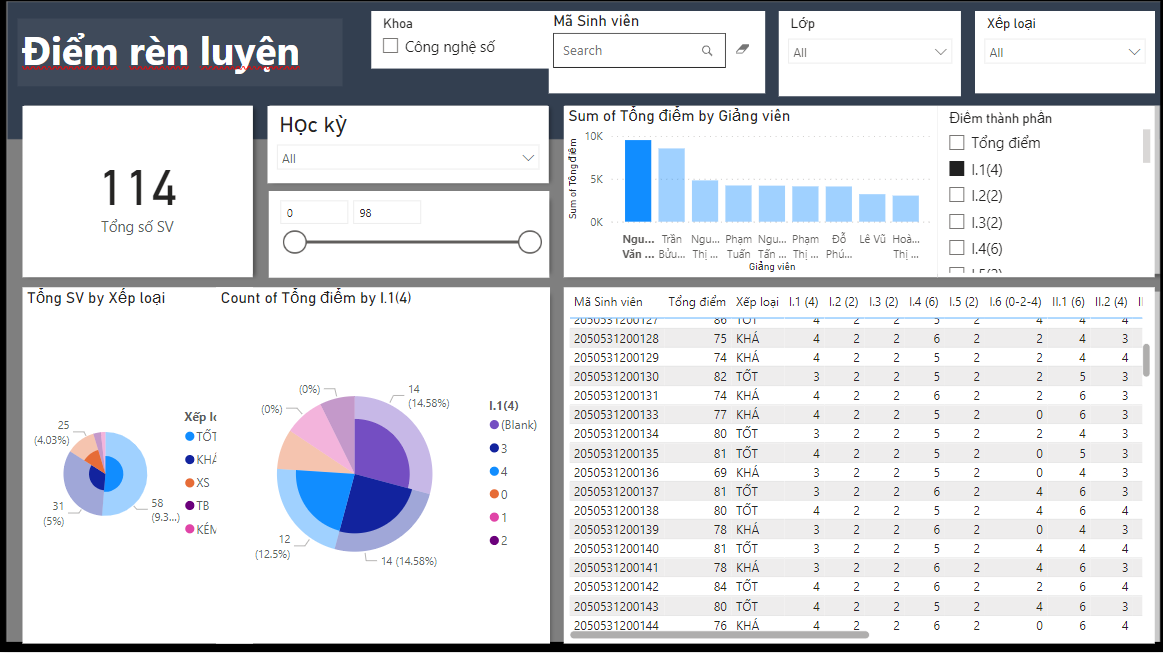

Layout of this report page (visuals, bound fields, positions):
{"tool":"powerbi","page":{"name":"Page 1","canvas":[1280,720],"ordinal":0},"visuals":[{"type":"slicer","fields":{"Values":["Điểm Rèn Luyện.Học kỳ"]},"box":[293.7,120.8,308.7,85.1],"z":0},{"type":"card","fields":{"Values":["Điểm Rèn Luyện.Xếp loại"]},"box":[24.7,120.8,252.5,188],"z":1000},{"type":"slicer","fields":{"Values":["Điểm Rèn Luyện.Tổng điểm"]},"box":[295.6,213.5,307.6,95.3],"z":2000},{"type":"clusteredColumnChart","fields":{"Category":["Giảng viên.Giảng viên"],"Y":["Điểm Rèn Luyện.Tổng điểm"]},"box":[618.9,120.8,410.3,188],"z":3000},{"type":"pieChart","fields":{"Category":["Điểm Rèn Luyện.Xếp loại"],"Y":["Điểm Rèn Luyện.Mã Sinh viên"]},"box":[24.7,319.7,252.5,391.1],"z":4000},{"type":"slicer","fields":{"Values":["Parameter.Parameter"]},"box":[1029.2,120.8,238.8,188],"z":5000},{"type":"pieChart","fields":{"Category":["Điểm Rèn Luyện.I.1 (4)"],"Y":["Điểm Rèn Luyện.Tổng điểm"]},"box":[237.4,319.7,366.4,391.1],"z":6000},{"type":"textbox","box":[19.2,24.7,356.8,74.1],"z":7000},{"type":"tableEx","fields":{"Values":["Điểm Rèn Luyện.Mã Sinh viên","Điểm Rèn Luyện.Tổng điểm","Điểm Rèn Luyện.Xếp loại","Điểm Rèn Luyện.I.1 (4)","Điểm Rèn Luyện.I.2 (2)","Điểm Rèn Luyện.I.3 (2)","Điểm Rèn Luyện.I.4 (6)","Điểm Rèn Luyện.I.5 (2)","Điểm Rèn Luyện.I.6 (0-2-4)","Điểm Rèn Luyện.II.1 (6)","Điểm Rèn Luyện.II.2 (4)","Điểm Rèn Luyện.II.3 (10)"]},"box":[618.9,319.7,649.1,391.1],"z":8000},{"type":"slicer","fields":{"Values":["Điểm Rèn Luyện.Xếp loại"]},"box":[1070.3,16.5,197.6,90.6],"z":9000},{"type":"textFilter25A4896A83E0487089E2B90C9AE57C8A","fields":{"field":["Điểm Rèn Luyện.Mã Sinh viên"]},"box":[602.4,16.5,237.4,90.6],"z":10000},{"type":"slicer","fields":{"Values":["Lớp.Lớp"]},"box":[854.9,16.5,200.3,93.3],"z":10001},{"type":"slicer","fields":{"Values":["Lớp.Khoa"]},"box":[407.5,16.5,194.9,63.1],"z":10002}]}

Visuals, with their boxes in screenshot pixels (x1, y1, x2, y2), scaled from the page's 1280x720 canvas onto the 1163x653 screenshot:
slicer - Điểm Rèn Luyện.Học kỳ: bbox=[267, 110, 547, 187]
card - Điểm Rèn Luyện.Xếp loại: bbox=[22, 110, 252, 280]
slicer - Điểm Rèn Luyện.Tổng điểm: bbox=[269, 194, 548, 280]
clusteredColumnChart - Giảng viên.Giảng viên x Điểm Rèn Luyện.Tổng điểm: bbox=[562, 110, 935, 280]
pieChart - Điểm Rèn Luyện.Xếp loại x Điểm Rèn Luyện.Mã Sinh viên: bbox=[22, 290, 252, 645]
slicer - Parameter.Parameter: bbox=[935, 110, 1152, 280]
pieChart - Điểm Rèn Luyện.I.1 (4) x Điểm Rèn Luyện.Tổng điểm: bbox=[216, 290, 549, 645]
textbox: bbox=[17, 22, 342, 90]
tableEx - Điểm Rèn Luyện.Mã Sinh viên x Điểm Rèn Luyện.Tổng điểm: bbox=[562, 290, 1152, 645]
slicer - Điểm Rèn Luyện.Xếp loại: bbox=[972, 15, 1152, 97]
textFilter25A4896A83E0487089E2B90C9AE57C8A - Điểm Rèn Luyện.Mã Sinh viên: bbox=[547, 15, 763, 97]
slicer - Lớp.Lớp: bbox=[777, 15, 959, 100]
slicer - Lớp.Khoa: bbox=[370, 15, 547, 72]
